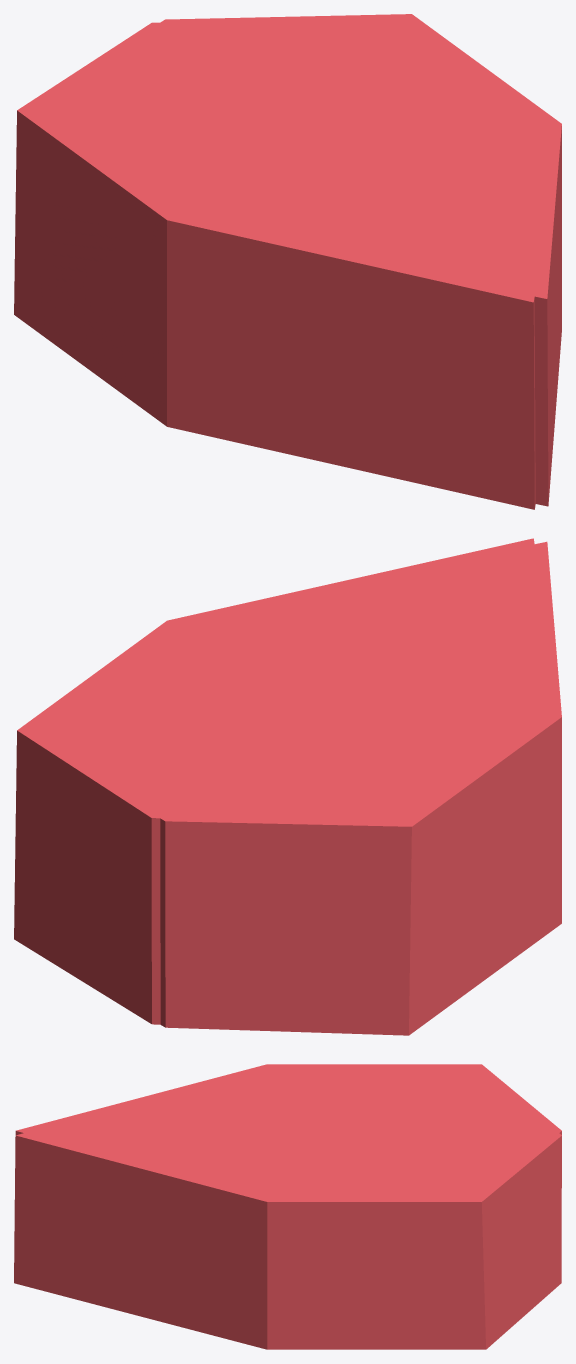
Rendered from Enemy.fbx.
3 renders of one model, top to bottom at view 1: azimuth 30°, elevation 25°; view 2: azimuth 150°, elevation 25°; view 3: azimuth 270°, elevation 25°, orthographic. The views are drawn at different scales.
Visible parts, largest first — view 1: 立方体; view 2: 立方体; view 3: 立方体.
Boxes of the visible parts, x1,y1,x2,y2 form: 立方体: [14, 14, 561, 509]; 立方体: [14, 538, 561, 1035]; 立方体: [14, 1064, 561, 1349].
Bounding box in the file's own units: 200 × 100 × 336.
